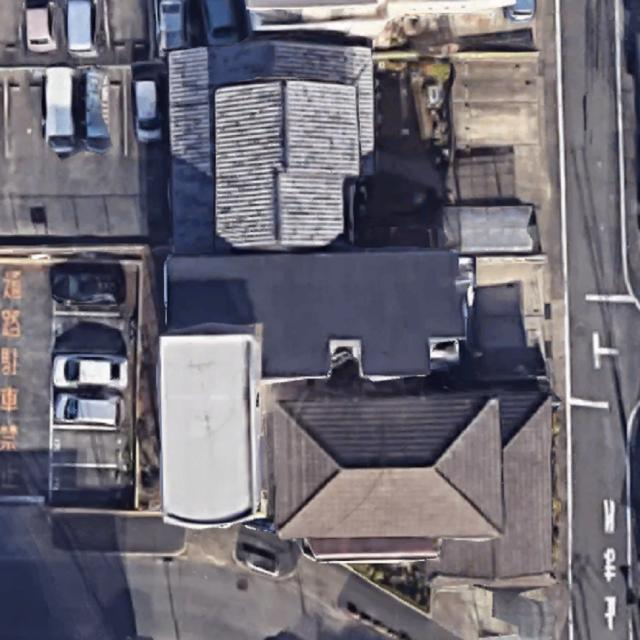Batiment: (268, 389, 552, 579), (169, 40, 374, 252), (166, 250, 466, 376), (159, 334, 262, 528)
